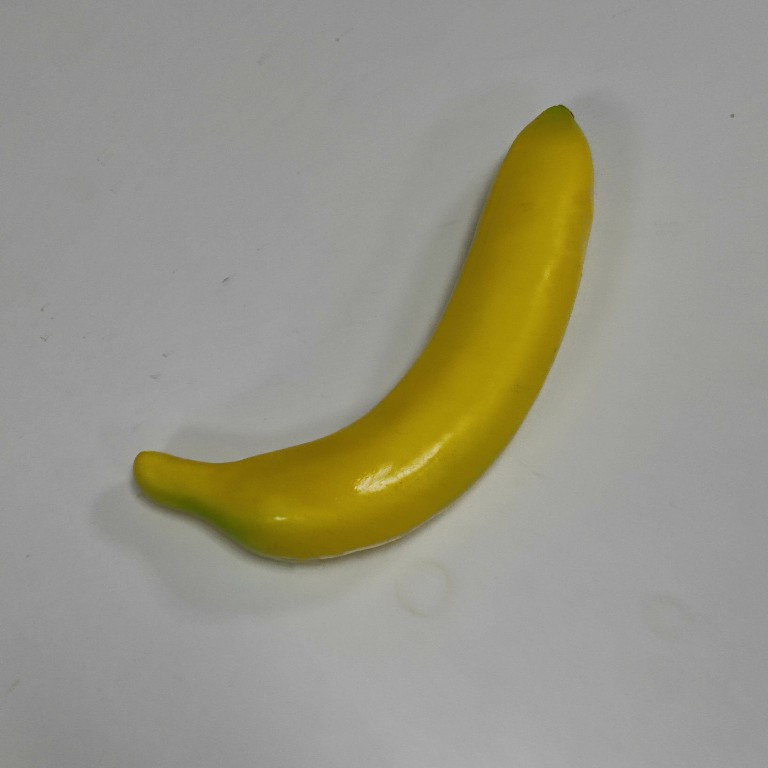fruit_banana: (129, 98, 600, 569)
